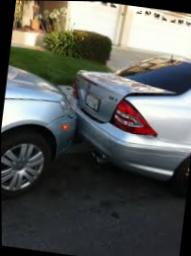Dickey: (73, 72, 175, 124)
